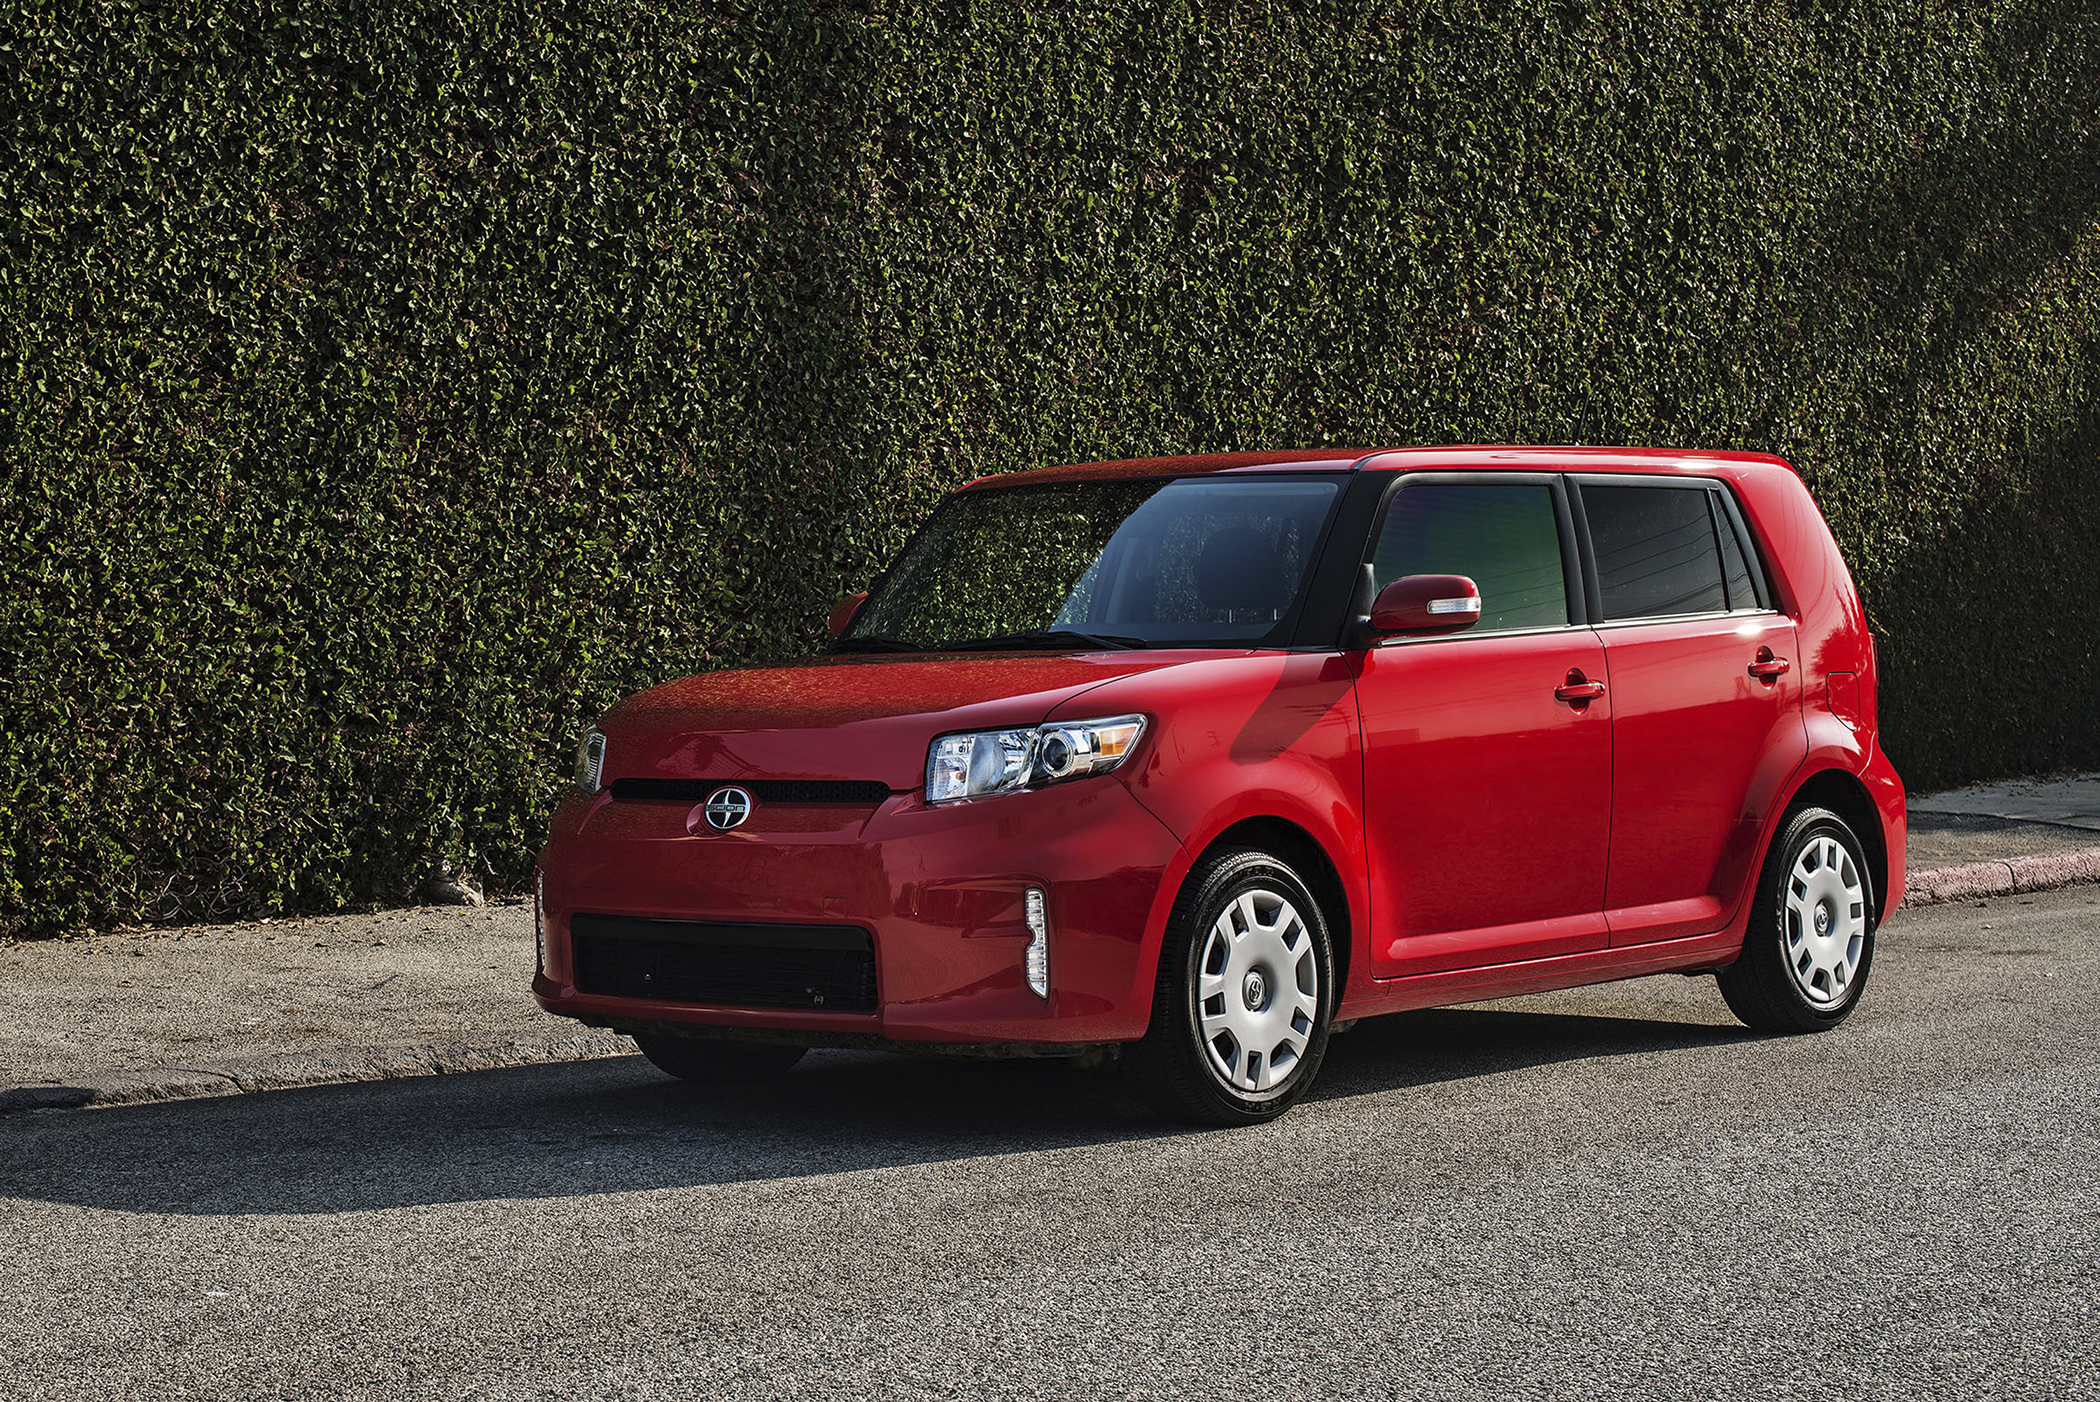car: (502, 358, 1944, 1170)
